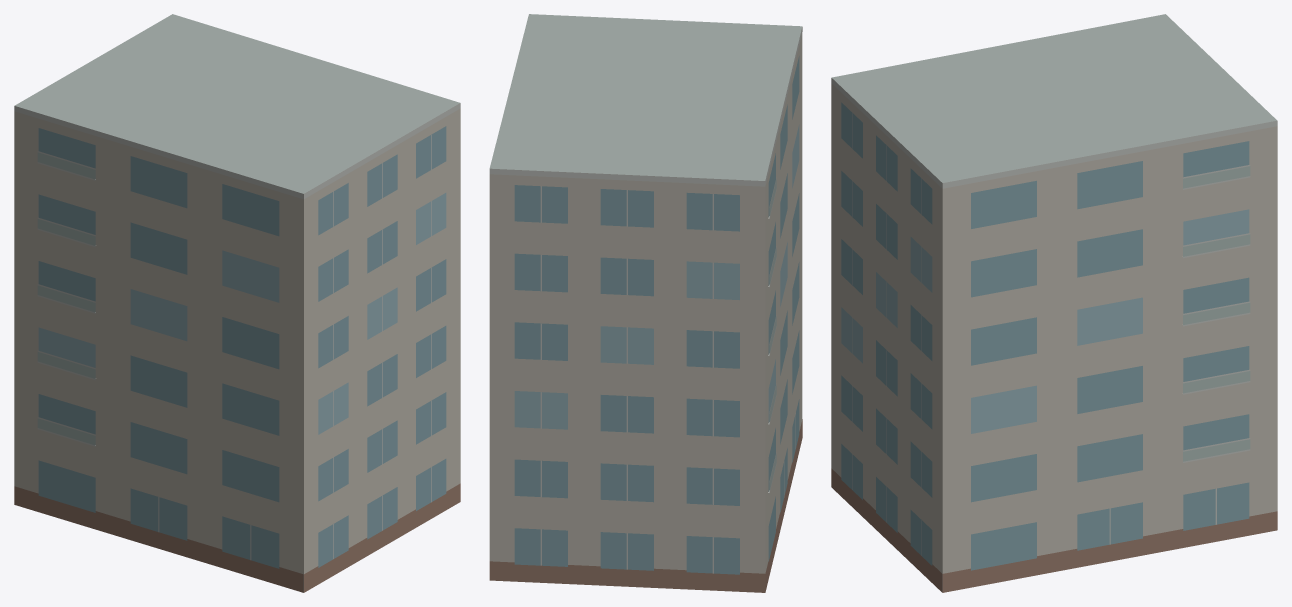
Rendered from survey-upis-32736628.glb.
3 renders of one model, left to right at view 1: azimuth 30°, elevation 25°; view 2: azimuth 150°, elevation 25°; view 3: azimuth 270°, elevation 25°, orthographic. The views are drawn at different scales.
Visible parts, largest first — view 1: survey-upis-32736628.tmp; view 2: survey-upis-32736628.tmp; view 3: survey-upis-32736628.tmp.
Boxes of the visible parts, box(x1,y1,x2,y2) form: survey-upis-32736628.tmp: box(14, 14, 460, 592); survey-upis-32736628.tmp: box(489, 14, 802, 592); survey-upis-32736628.tmp: box(831, 14, 1277, 592).
Size of the model in its own units: 15.86 by 17.9 by 17.67.
